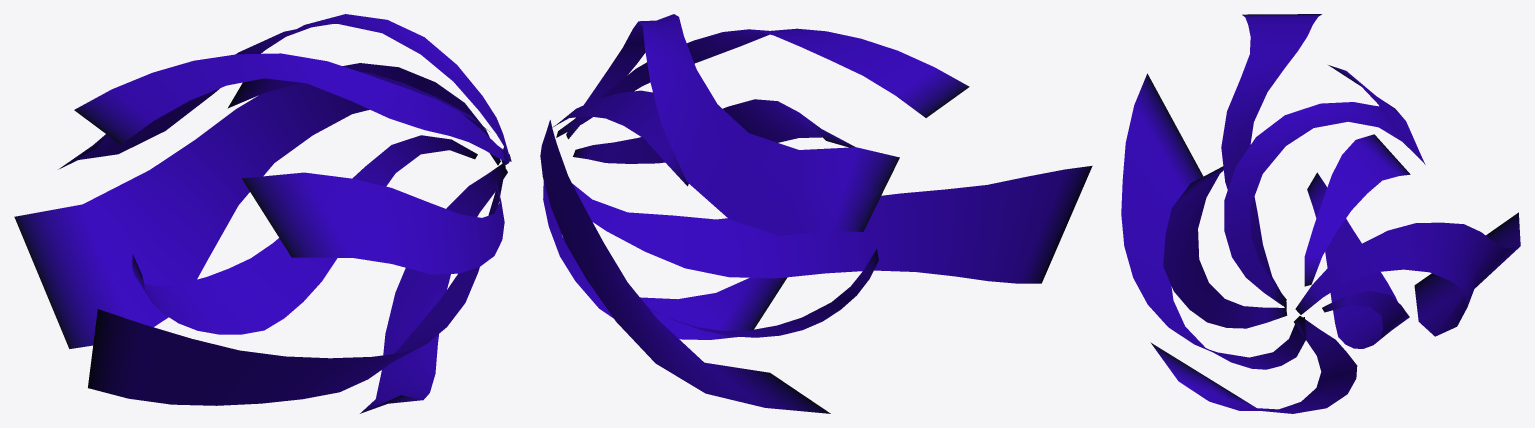
The model's file is SM_WEP_Eff_Rasengan_C_01.mo.fbx.
3 renders of one model, left to right at view 1: azimuth 30°, elevation 25°; view 2: azimuth 150°, elevation 25°; view 3: azimuth 270°, elevation 25°, orthographic. The views are drawn at different scales.
Visible parts, largest first — view 1: SM_WEP_Eff_Rasengan_C_01.mo; view 2: SM_WEP_Eff_Rasengan_C_01.mo; view 3: SM_WEP_Eff_Rasengan_C_01.mo.
Part boxes in pixels (box(x1,y1,x2,y2)): SM_WEP_Eff_Rasengan_C_01.mo: box(14, 14, 511, 413); SM_WEP_Eff_Rasengan_C_01.mo: box(540, 14, 1092, 413); SM_WEP_Eff_Rasengan_C_01.mo: box(1121, 14, 1520, 413).
Size of the model in its own units: 3.45 by 2.37 by 2.77.
